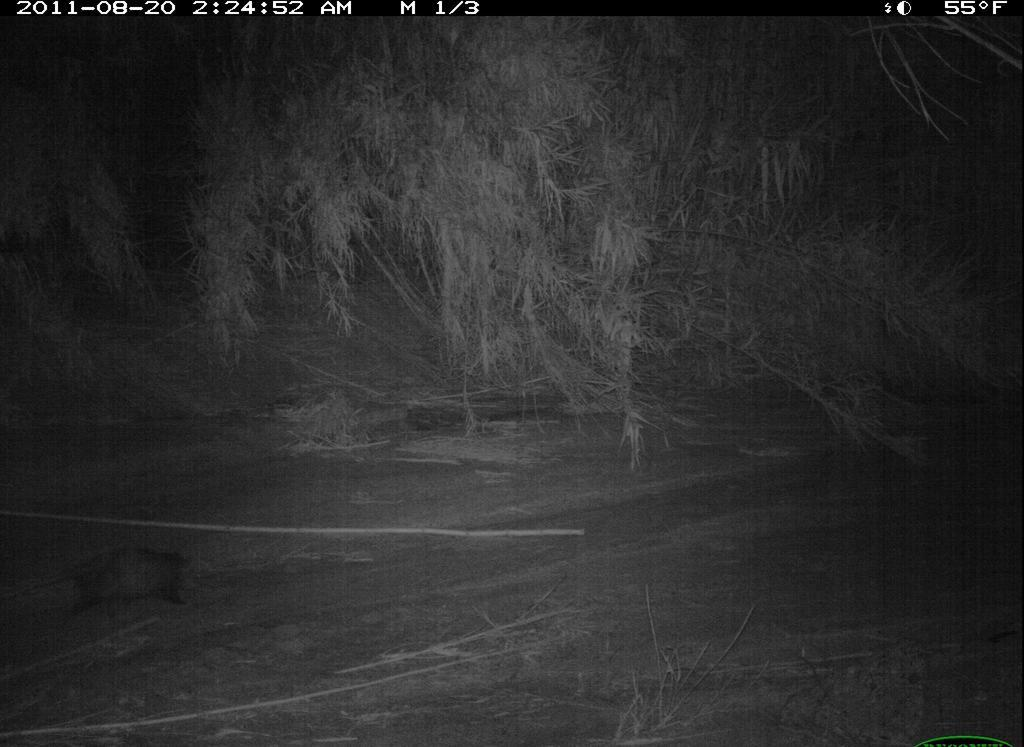opossum: (33, 534, 210, 612)
